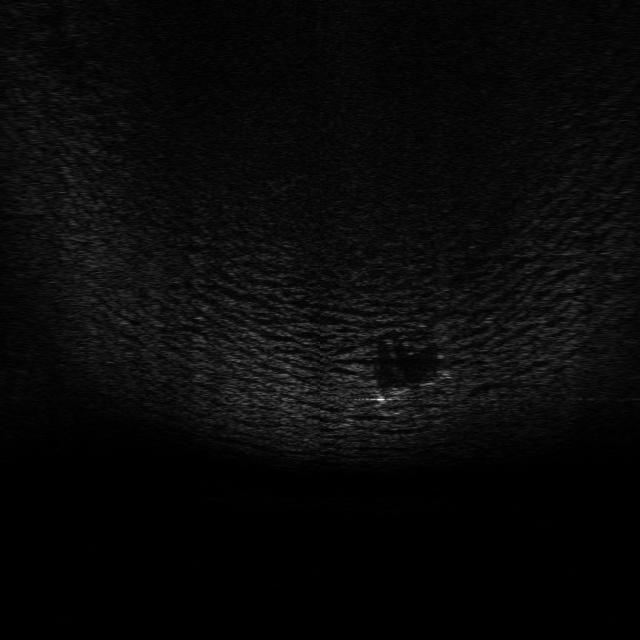plane: (369, 374, 443, 412)
